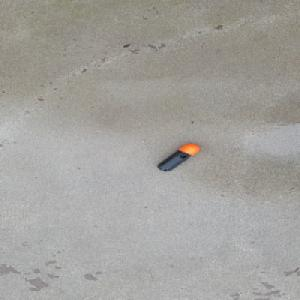PlasticPart: (156, 143, 200, 171)
